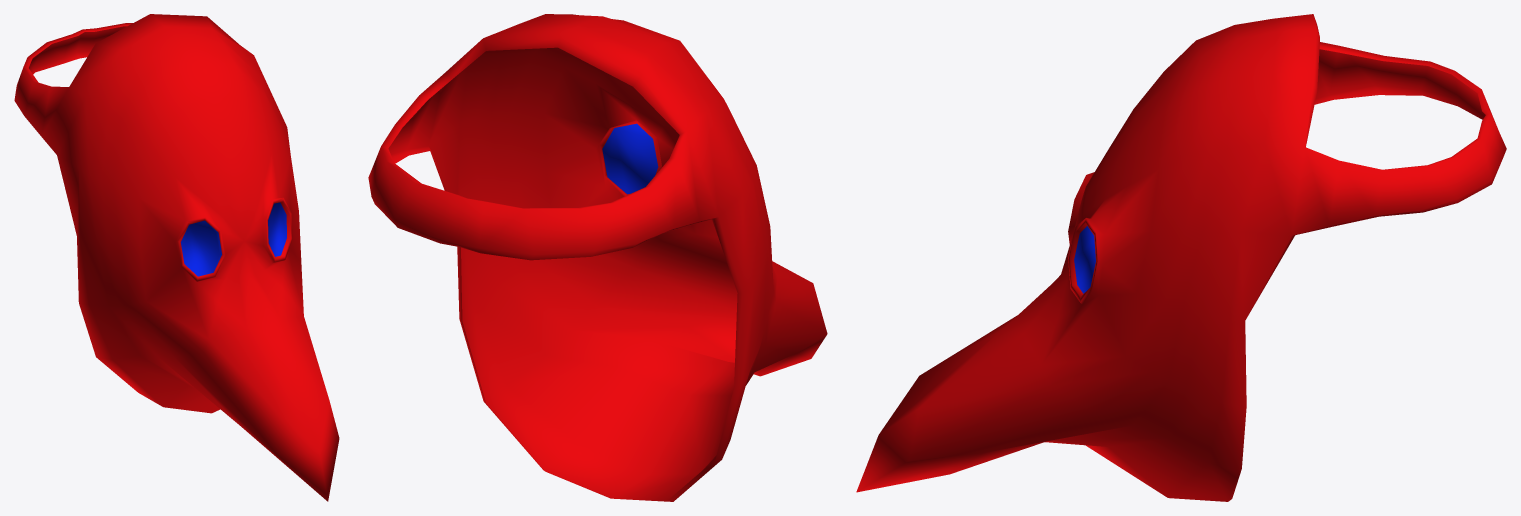
The model's file is Plague mask.fbx.
3 renders of one model, left to right at view 1: azimuth 30°, elevation 25°; view 2: azimuth 150°, elevation 25°; view 3: azimuth 270°, elevation 25°, orthographic. The views are drawn at different scales.
Visible parts, largest first — view 1: Plague mask; view 2: Plague mask; view 3: Plague mask.
Part boxes in pixels (x1,y1,x2,y2): Plague mask: (14,14,339,501); Plague mask: (368,14,827,501); Plague mask: (856,14,1506,501).
Size of the model in its own units: 16.36 by 26.96 by 34.35.
